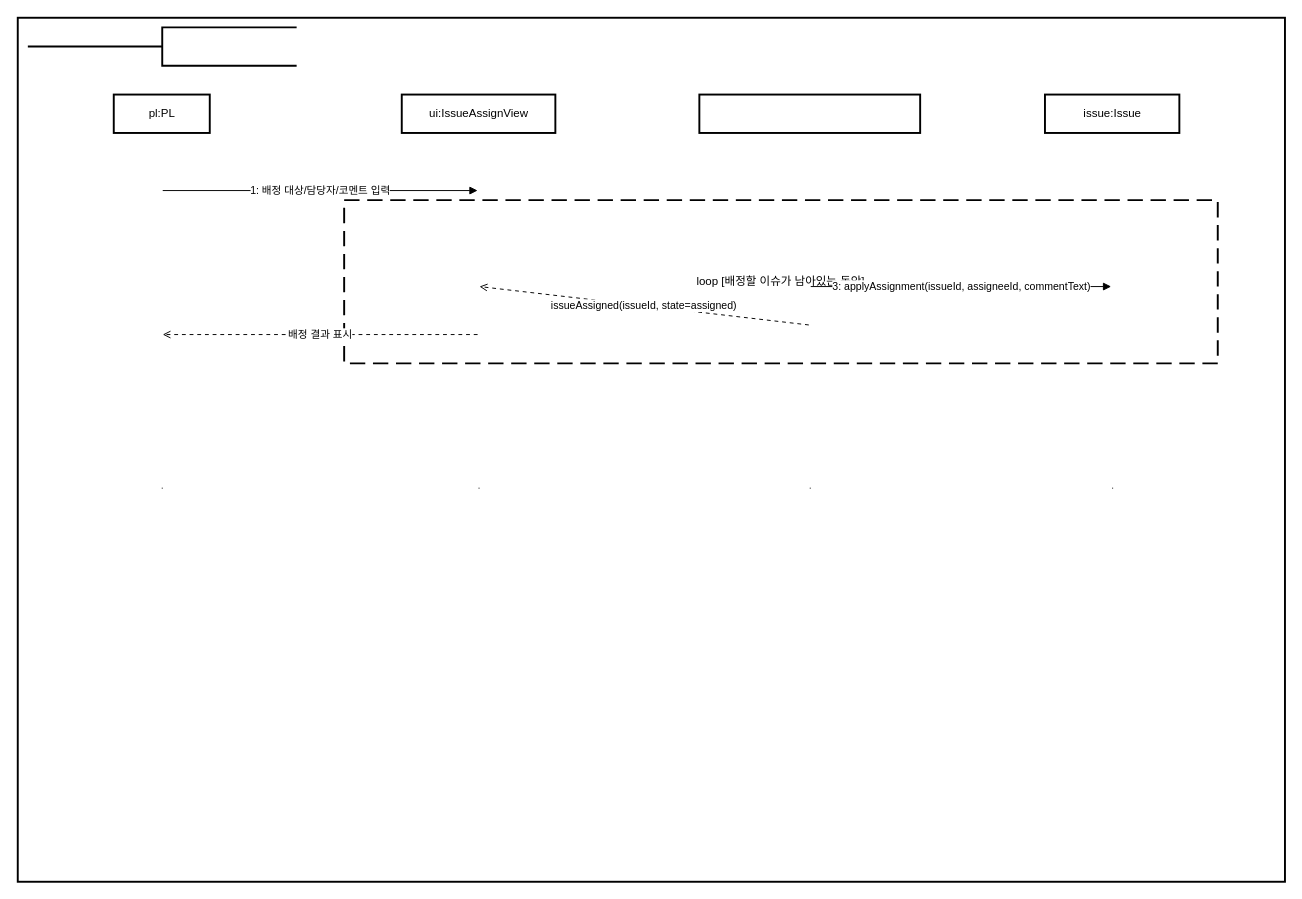
This 1302x899 diagram has some shape labels left out. The box of each missing label's shape, as (x1, y1, x2, y2) in pixels:
controller:IssueAssignController: (698, 93, 921, 133)
sd assignIssueWithComment(): (26, 26, 297, 66)
